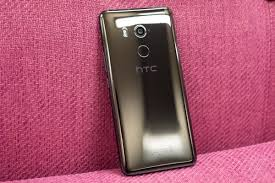htc: (97, 3, 198, 177)
